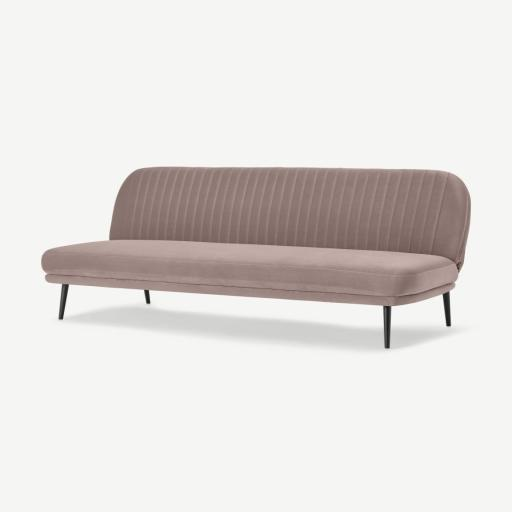back_cushion: (110, 168, 468, 268)
legs: (59, 284, 68, 319), (384, 306, 391, 348), (443, 292, 450, 326), (144, 290, 150, 304)
seat_cushion: (42, 240, 457, 298)
two-seater: (0, 0, 511, 512)
